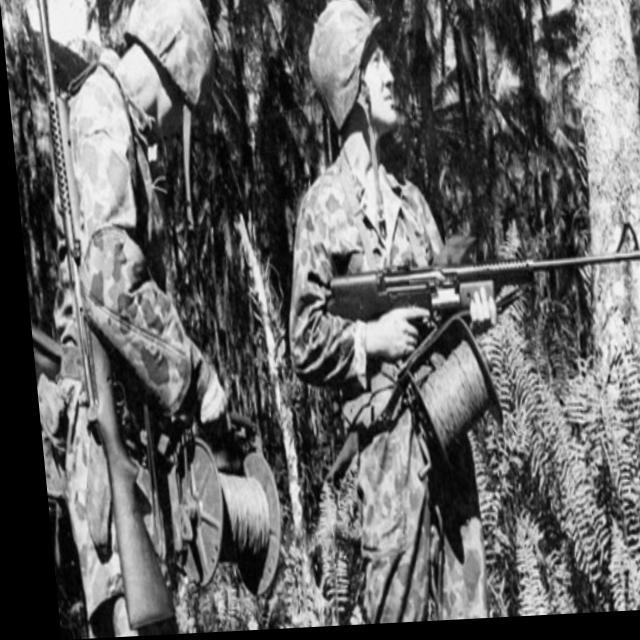other: (8, 0, 301, 616), (265, 7, 481, 599)
